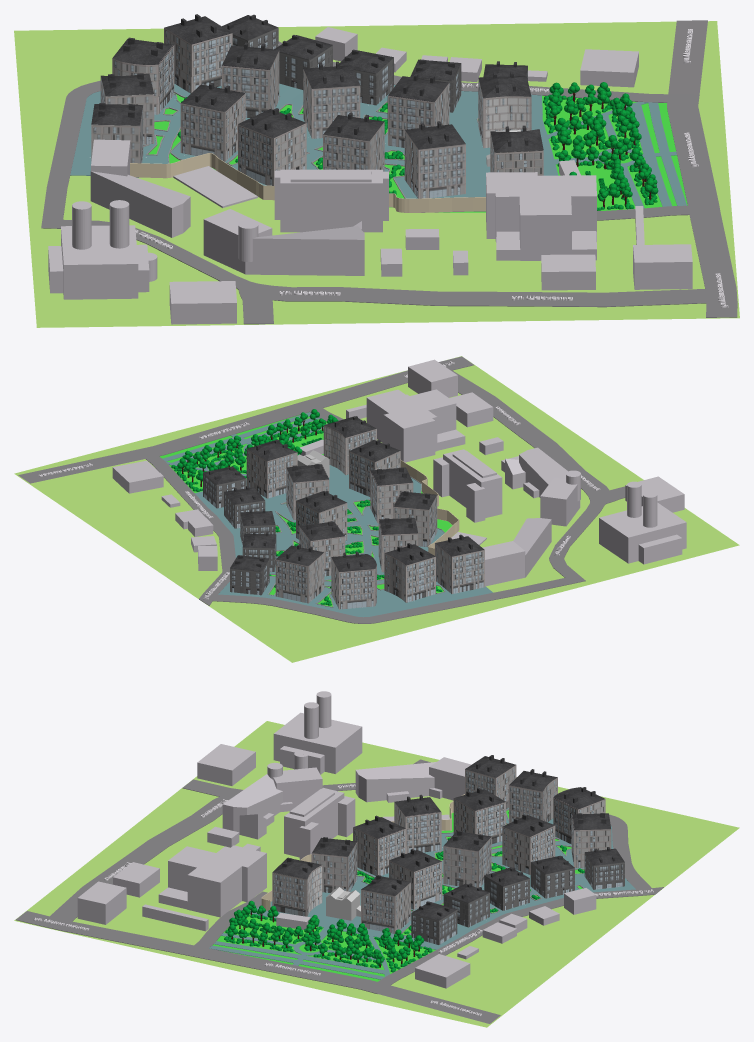
File: neimark-hotel-join-and-compression.glb
3 views of the same model, one above another, from view 1: azimuth 30°, elevation 25°; view 2: azimuth 150°, elevation 25°; view 3: azimuth 270°, elevation 25° (orthographic). The views are drawn at different scales.
Visible parts, largest first — view 1: Plane, Road, RoadMain, Cube.009, Cylinder, Icosphere.001, Cube.002, Cube.005, Cube.001, Plane.001, Building4, Building8 (+26 smaller); view 2: Plane, Road, RoadMain, Cube.009, Cylinder, Icosphere.001, Cube.002, Cube.005, Cube.001, Building15, Building17, Building14 (+21 smaller); view 3: Plane, Road, Cube.009, Icosphere.001, RoadMain, Cylinder, Cube.002, Cube.001, Cube.005, Plane.001, Building1, Building2 (+22 smaller).
Boxes of the visible parts, x1,y1,x2,y2 form: Plane: (14,21,739,327); Road: (41,20,737,324); RoadMain: (70,83,686,208); Cube.009: (486,172,644,260); Cylinder: (48,200,157,299); Icosphere.001: (177,82,658,210); Cube.002: (203,209,364,275); Cube.005: (274,169,388,232); Cube.001: (90,139,190,237); Plane.001: (148,93,687,212); Building4: (404,121,465,198); Building8: (238,108,306,185); Plane: (14,356,739,662); Road: (18,356,625,623); RoadMain: (162,412,492,617); Cube.009: (346,389,465,462); Cylinder: (599,481,686,564); Icosphere.001: (171,409,442,605); Cube.002: (505,447,580,526); Cube.005: (433,449,502,522); Cube.001: (482,518,551,586); Building15: (384,543,435,602); Building17: (275,544,324,603); Building14: (435,534,484,593); Plane: (14,721,739,1027); Road: (16,759,663,1023); Cube.009: (142,845,266,931); Icosphere.001: (224,812,584,972); RoadMain: (209,808,635,979); Cylinder: (273,691,362,774); Cube.002: (222,762,322,839); Cube.001: (355,757,471,802); Cube.005: (284,787,355,859); Plane.001: (212,810,584,981); Building1: (272,857,322,916); Building2: (361,875,410,933).
Size of the model in its own units: 8.23 by 0.7374 by 8.23.
190 materials, 18 textured.
